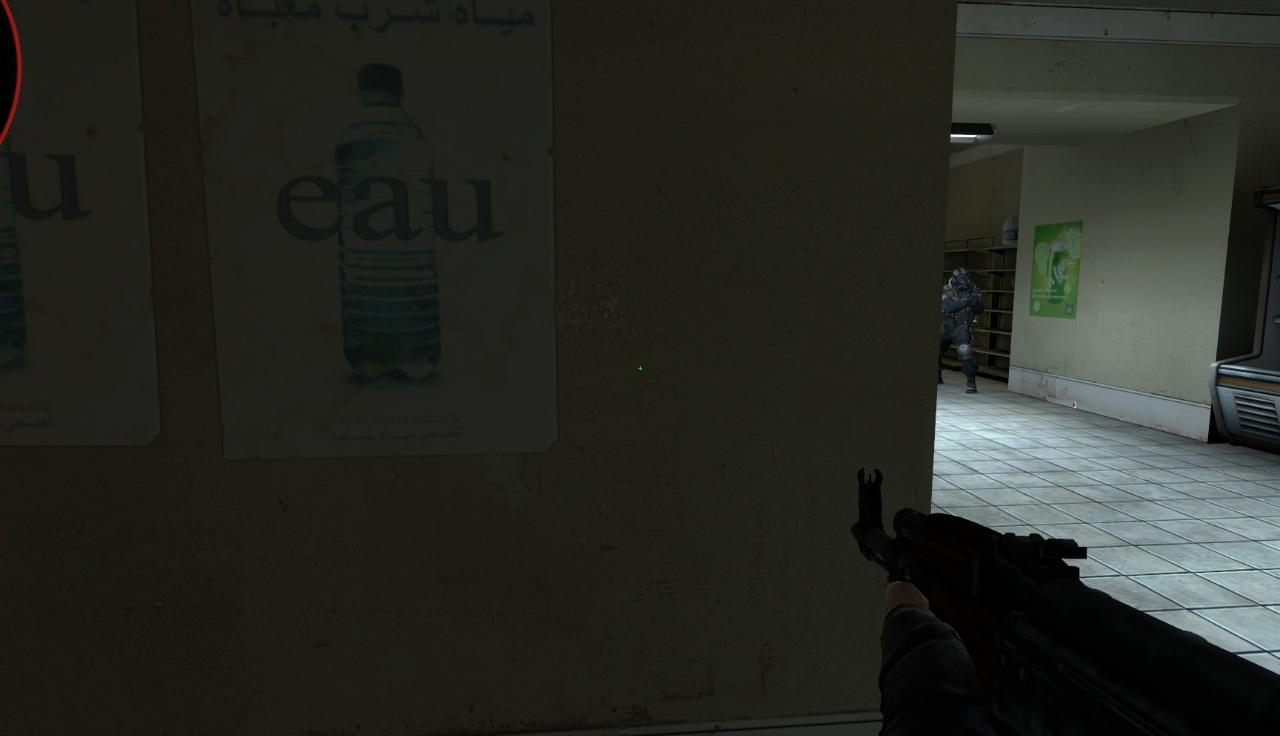ct: (940, 269, 982, 392)
cthead: (953, 269, 971, 292)
rifle: (851, 471, 1280, 736)
